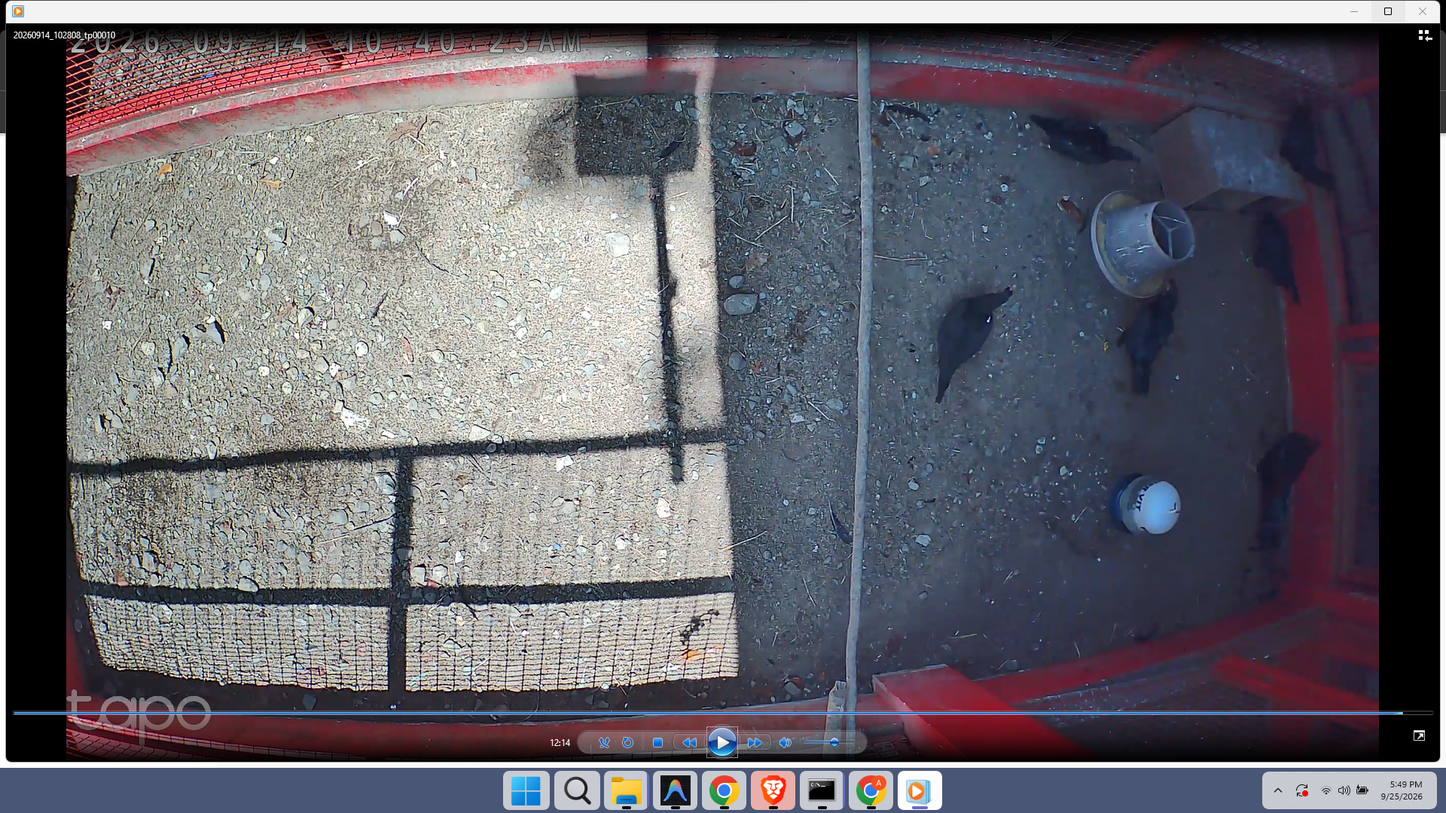Chicken: (927, 279, 1018, 407), (1094, 274, 1181, 399), (1244, 425, 1324, 555), (1227, 205, 1305, 310), (1271, 91, 1341, 201), (1027, 112, 1143, 169)
Drinker: (1103, 471, 1182, 536)
Feeder: (1087, 192, 1195, 300)
Leg_Band_Green: (1245, 256, 1252, 263)
Leg_Band_Yellow: (1102, 340, 1110, 354)
